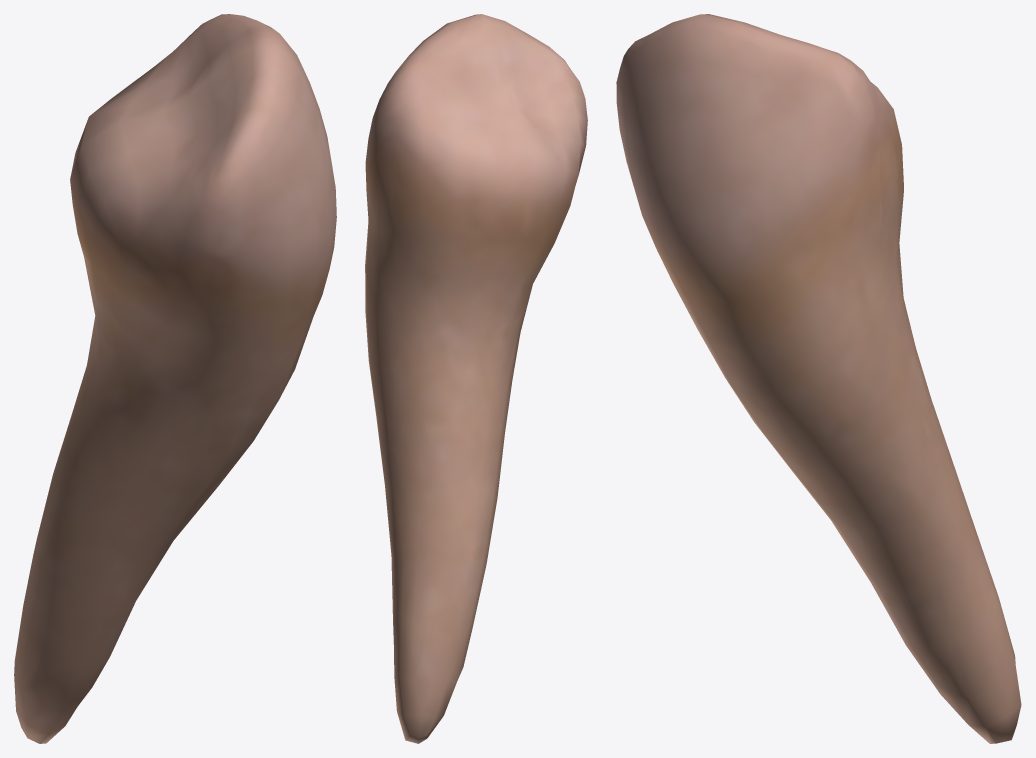
3 renders of one model, left to right at view 1: azimuth 30°, elevation 25°; view 2: azimuth 150°, elevation 25°; view 3: azimuth 270°, elevation 25°, orthographic. The views are drawn at different scales.
Visible parts, largest first — view 1: t_34; view 2: t_34; view 3: t_34.
Boxes of the visible parts, left/top/right/bottom form: t_34: left=14, top=14, right=336, bottom=743; t_34: left=365, top=14, right=587, bottom=743; t_34: left=616, top=14, right=1021, bottom=743.
Size of the model in its own units: 0.0606 by 0.203 by 0.0978.
1 material, 1 textured.
